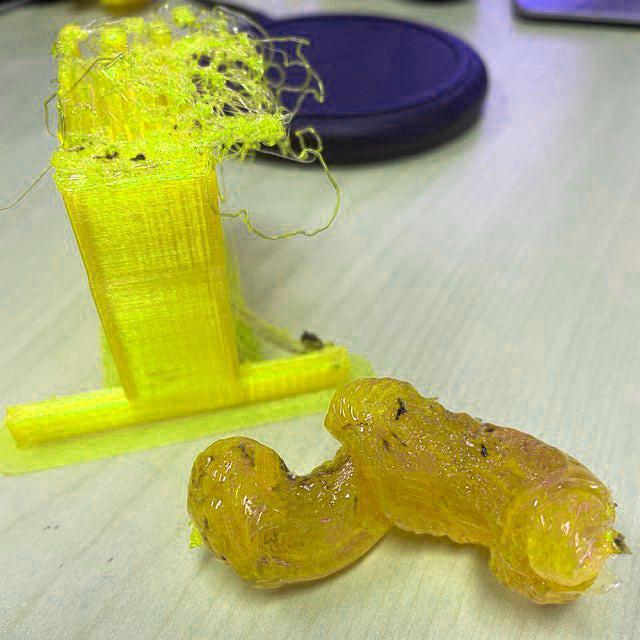spaghetti: (41, 2, 334, 177), (206, 171, 347, 248)
